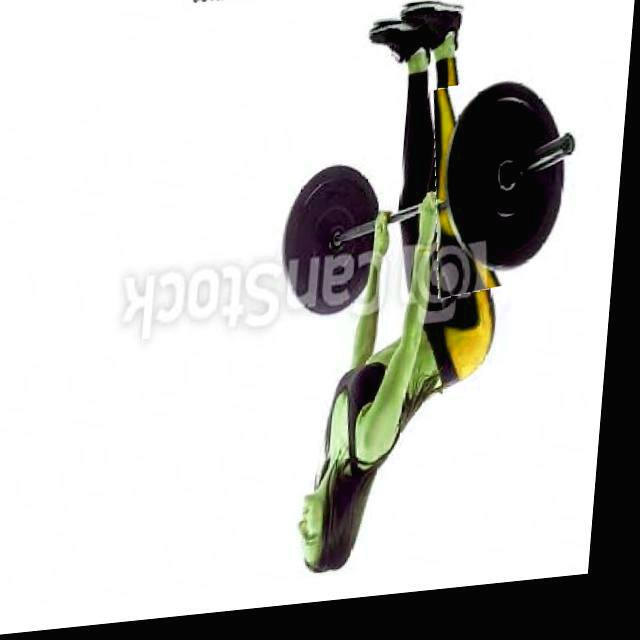barbell: (429, 75, 605, 307)
